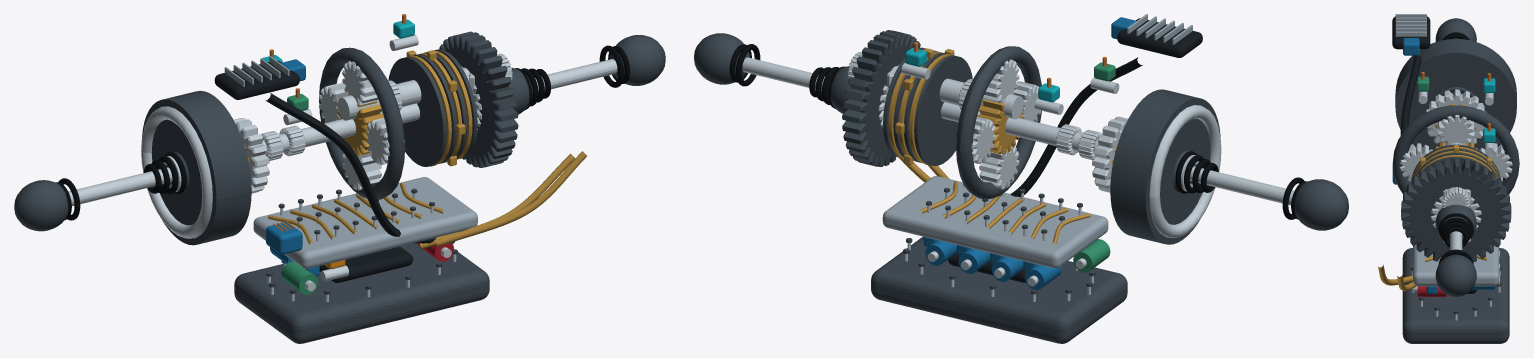
Rendered from generic_transmission_drivetrain.glb.
3 views of the same model, side by side, from view 1: azimuth 30°, elevation 25°; view 2: azimuth 150°, elevation 25°; view 3: azimuth 270°, elevation 25° (orthographic). The views are drawn at different scales.
Visible parts, largest first — view 1: system_mesh__transmission_pan__service_pan, system_mesh__torque_converter__impeller_shell, system_mesh__valve_body__hydraulic_plate, system_mesh__differential__ring_gear, system_mesh__planetary_gearset__ring_gear, system_mesh__clutch_packs__friction_disc_1, system_mesh__torque_converter__welded_seam, system_mesh__outer_cv_joints__joint_-4.25, system_mesh__internal_harness__branch_network, system_mesh__outer_cv_joints__joint_3.85, system_mesh__tcm__sealed_case, system_mesh__transmission_filter__filter_body (+22 smaller); view 2: system_mesh__transmission_pan__service_pan, system_mesh__valve_body__hydraulic_plate, system_mesh__torque_converter__impeller_shell, system_mesh__differential__ring_gear, system_mesh__planetary_gearset__ring_gear, system_mesh__clutch_packs__friction_disc_1, system_mesh__torque_converter__welded_seam, system_mesh__outer_cv_joints__joint_-4.25, system_mesh__shift_solenoids__coil_body (×4), system_mesh__outer_cv_joints__joint_3.85, system_mesh__tcm__sealed_case, system_mesh__input_shaft__splined_shaft (+18 smaller); view 3: system_mesh__differential__ring_gear, system_mesh__torque_converter__impeller_shell, system_mesh__transmission_pan__service_pan, system_mesh__planetary_gearset__ring_gear, system_mesh__valve_body__hydraulic_plate, system_mesh__outer_cv_joints__joint_3.85, system_mesh__transmission_oil_pump__outer_gear, system_mesh__planetary_gearset__planet_1, system_mesh__internal_harness__branch_network, system_mesh__outer_cv_joints__joint_-4.25, system_mesh__planetary_gearset__planet_2, system_mesh__inner_cv_joints__joint_2.05 (+33 smaller).
Boxes of the visible parts, left/top/right/bottom form: system_mesh__transmission_pan__service_pan: left=234, top=243, right=489, bottom=343; system_mesh__torque_converter__impeller_shell: left=142, top=90, right=251, bottom=245; system_mesh__valve_body__hydraulic_plate: left=253, top=177, right=477, bottom=268; system_mesh__differential__ring_gear: left=439, top=31, right=518, bottom=167; system_mesh__planetary_gearset__ring_gear: left=319, top=47, right=404, bottom=199; system_mesh__clutch_packs__friction_disc_1: left=388, top=57, right=446, bottom=166; system_mesh__torque_converter__welded_seam: left=141, top=106, right=212, bottom=238; system_mesh__outer_cv_joints__joint_-4.25: left=14, top=180, right=68, bottom=231; system_mesh__internal_harness__branch_network: left=265, top=93, right=436, bottom=243; system_mesh__outer_cv_joints__joint_3.85: left=610, top=35, right=665, bottom=85; system_mesh__tcm__sealed_case: left=214, top=60, right=299, bottom=99; system_mesh__transmission_filter__filter_body: left=319, top=246, right=412, bottom=282; system_mesh__transmission_pan__service_pan: left=871, top=236, right=1127, bottom=343; system_mesh__valve_body__hydraulic_plate: left=882, top=176, right=1108, bottom=268; system_mesh__torque_converter__impeller_shell: left=1110, top=89, right=1220, bottom=244; system_mesh__differential__ring_gear: left=842, top=30, right=920, bottom=166; system_mesh__planetary_gearset__ring_gear: left=956, top=46, right=1041, bottom=199; system_mesh__clutch_packs__friction_disc_1: left=914, top=55, right=972, bottom=165; system_mesh__torque_converter__welded_seam: left=1149, top=105, right=1221, bottom=237; system_mesh__outer_cv_joints__joint_-4.25: left=1294, top=179, right=1348, bottom=230; system_mesh__shift_solenoids__coil_body (×4): left=925, top=240, right=1061, bottom=289; system_mesh__outer_cv_joints__joint_3.85: left=694, top=33, right=750, bottom=84; system_mesh__tcm__sealed_case: left=1117, top=18, right=1202, bottom=57; system_mesh__input_shaft__splined_shaft: left=941, top=102, right=1098, bottom=154; system_mesh__differential__ring_gear: left=1401, top=158, right=1511, bottom=262; system_mesh__torque_converter__impeller_shell: left=1395, top=38, right=1516, bottom=150; system_mesh__transmission_pan__service_pan: left=1402, top=248, right=1509, bottom=343; system_mesh__planetary_gearset__ring_gear: left=1392, top=105, right=1519, bottom=194; system_mesh__valve_body__hydraulic_plate: left=1413, top=244, right=1499, bottom=286; system_mesh__outer_cv_joints__joint_3.85: left=1435, top=254, right=1476, bottom=296; system_mesh__transmission_oil_pump__outer_gear: left=1426, top=89, right=1486, bottom=144; system_mesh__planetary_gearset__planet_1: left=1437, top=115, right=1474, bottom=145; system_mesh__internal_harness__branch_network: left=1400, top=55, right=1421, bottom=245; system_mesh__outer_cv_joints__joint_-4.25: left=1435, top=18, right=1476, bottom=41; system_mesh__planetary_gearset__planet_2: left=1399, top=143, right=1432, bottom=181; system_mesh__inner_cv_joints__joint_2.05: left=1435, top=204, right=1476, bottom=239.
Bounding box in the file's own units: 8.79 × 3.71 × 2.06.
